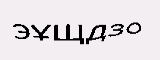Д: (86, 23, 107, 45)
З: (108, 23, 123, 38)
О: (125, 19, 143, 36)
Щ: (52, 20, 87, 46)
Э: (10, 20, 30, 41)
Ұ: (30, 22, 51, 41)
